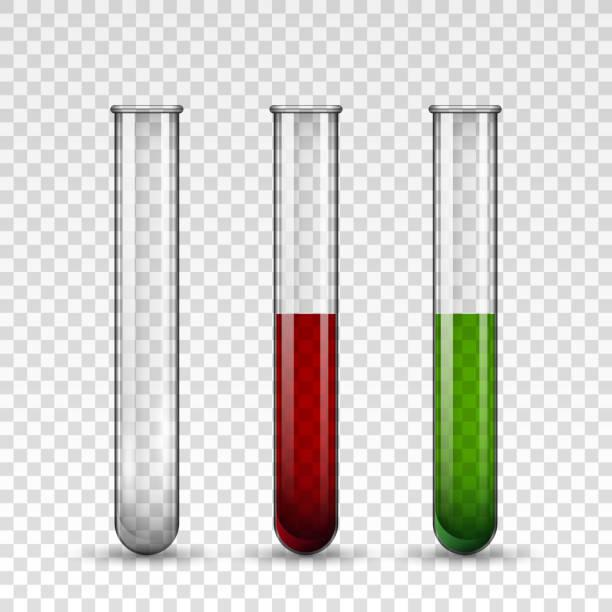Test tube: (421, 81, 502, 563), (269, 96, 343, 583), (109, 98, 177, 558)
